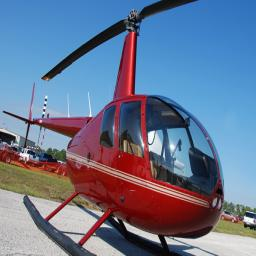helicopter: (6, 2, 227, 256)
